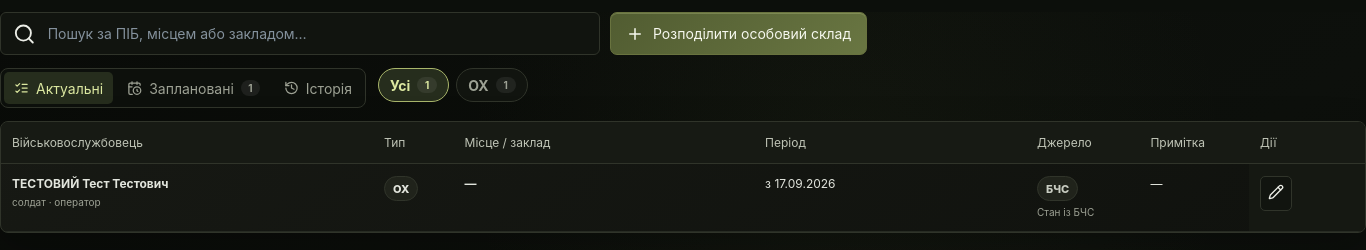
Test: PersonnelControl › shows future assignments separately without mixing them into current BCS
Expected: the row that starts with "ТЕСТОВИЙ Тест Тестович" is shown, [1,164,1365,231]
Expected: the text "02.10.2099 — 12.10.2099" is not shown
Click the button "Заплановані 1": x=194, y=88 [117,72,270,104]
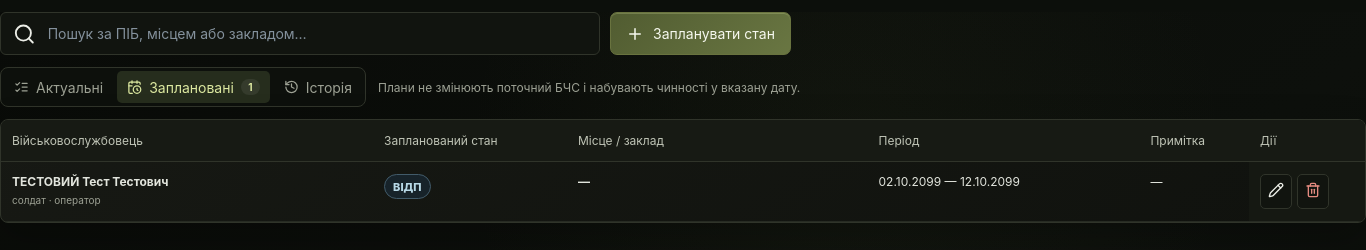
Expected: the text "02.10.2099 — 12.10.2099" is shown, [878,174,1020,189]
